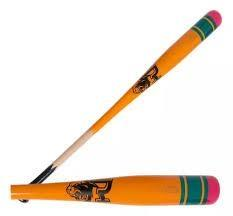Baseball-Bat: (32, 10, 220, 182), (12, 176, 220, 204)
